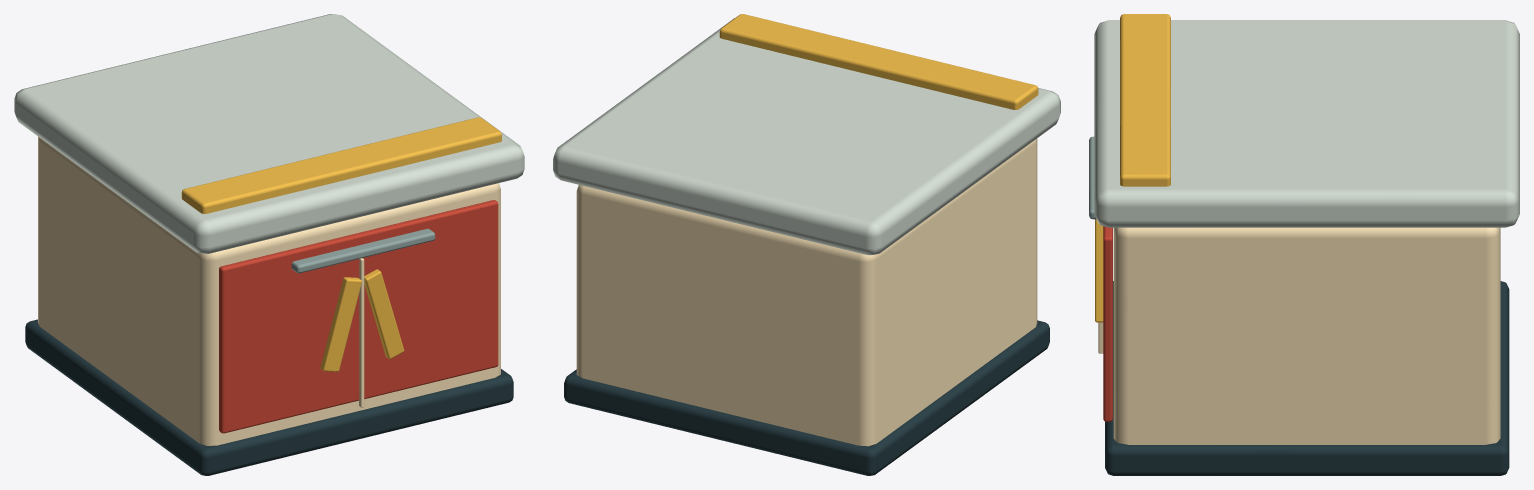
Rendered from serve.glb.
The picture shows the model from 3 angles, left to right: view 1: azimuth 30°, elevation 25°; view 2: azimuth 150°, elevation 25°; view 3: azimuth 270°, elevation 25°; orthographic projection. The views are drawn at different scales.
Visible parts, largest first — view 1: serve; view 2: serve; view 3: serve.
Boxes of the visible parts, x1=… form: serve: x1=14, y1=14, x2=524, y2=475; serve: x1=553, y1=14, x2=1060, y2=475; serve: x1=1089, y1=14, x2=1519, y2=475.
Bounding box in the file's own units: 1 × 0.7775 × 1.01.
